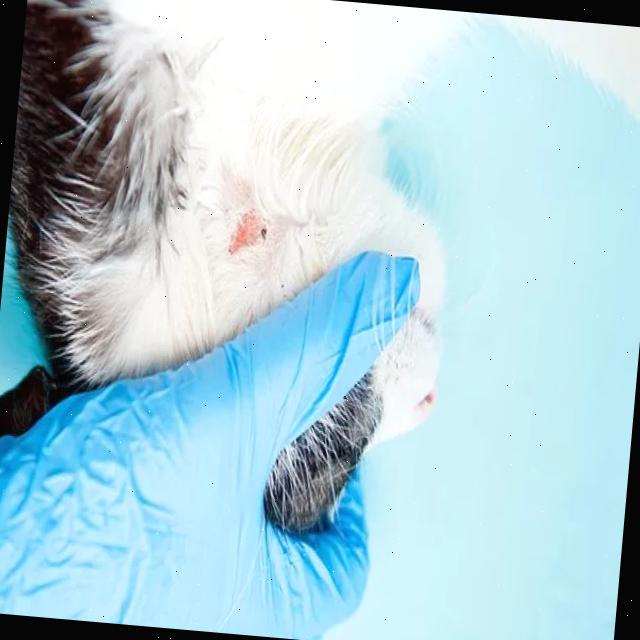cat-dermatitis: (227, 205, 268, 261)
